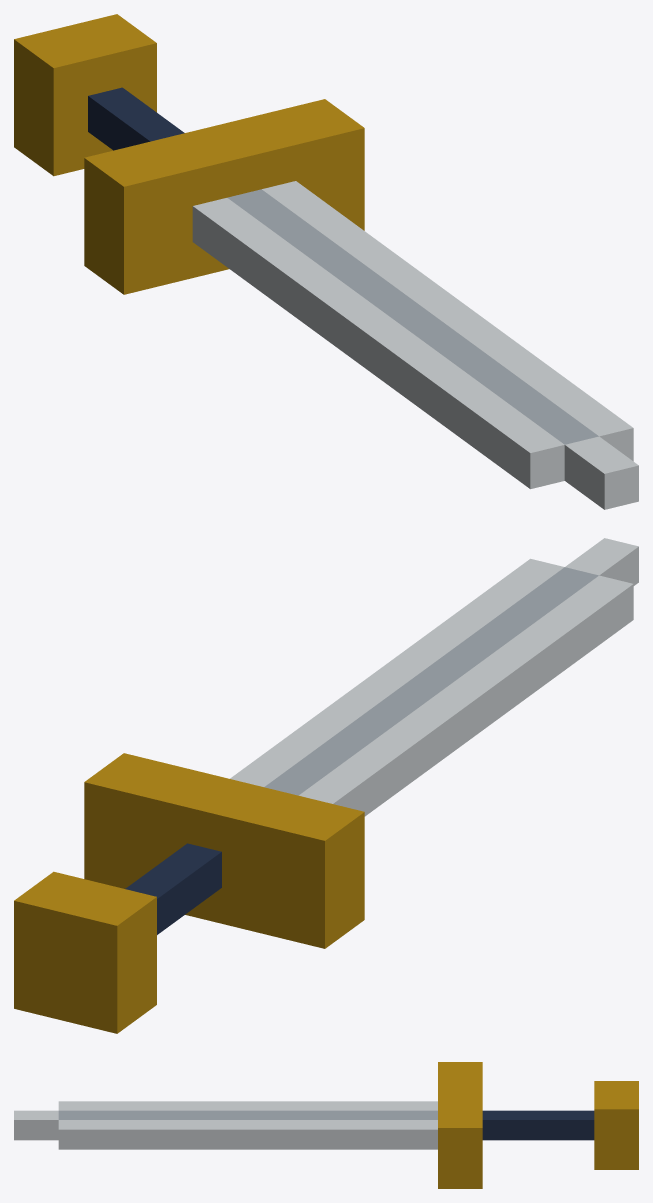
Rendered from vox_blade_twin.glb.
3 views of the same model, one above another, from view 1: azimuth 30°, elevation 25°; view 2: azimuth 150°, elevation 25°; view 3: azimuth 270°, elevation 25° (orthographic). The views are drawn at different scales.
Parts seen in each view (by area): view 1: vox_blade_twin; view 2: vox_blade_twin; view 3: vox_blade_twin.
Part boxes in pixels (x1=…): vox_blade_twin: x1=14, y1=14, x2=638, y2=509; vox_blade_twin: x1=14, y1=538, x2=638, y2=1033; vox_blade_twin: x1=14, y1=1062, x2=638, y2=1188.
Bounding box in the file's own units: 0.14 × 0.06 × 0.56.
